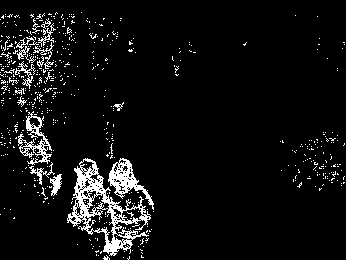person: (109, 157, 158, 260), (67, 158, 106, 260), (17, 113, 63, 199)
